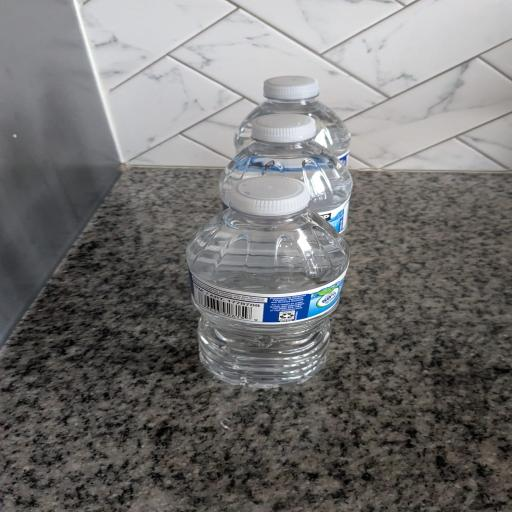waterbottle: (187, 176, 349, 387), (219, 115, 352, 232), (235, 76, 350, 165)
